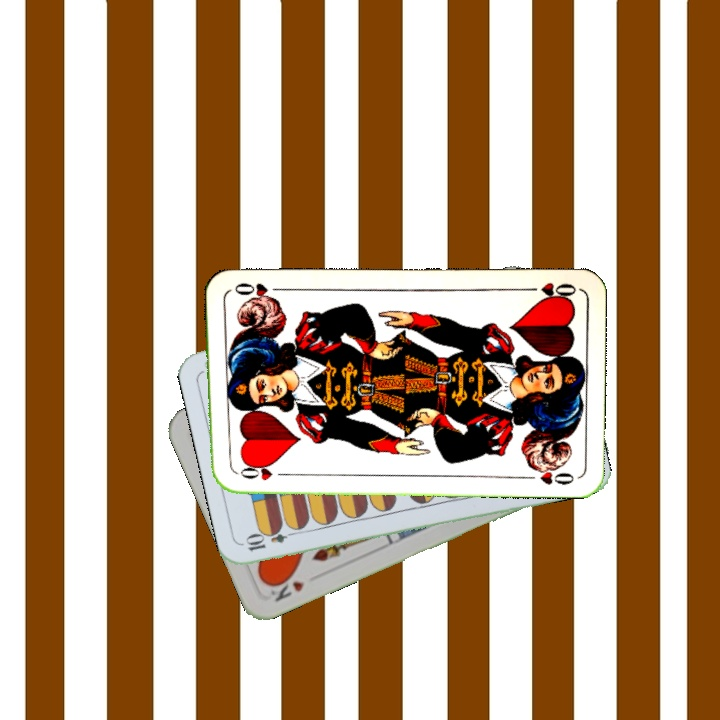E10: (242, 525, 301, 554)
HK: (262, 571, 307, 605)
HO: (520, 278, 578, 303), (229, 459, 288, 483)
